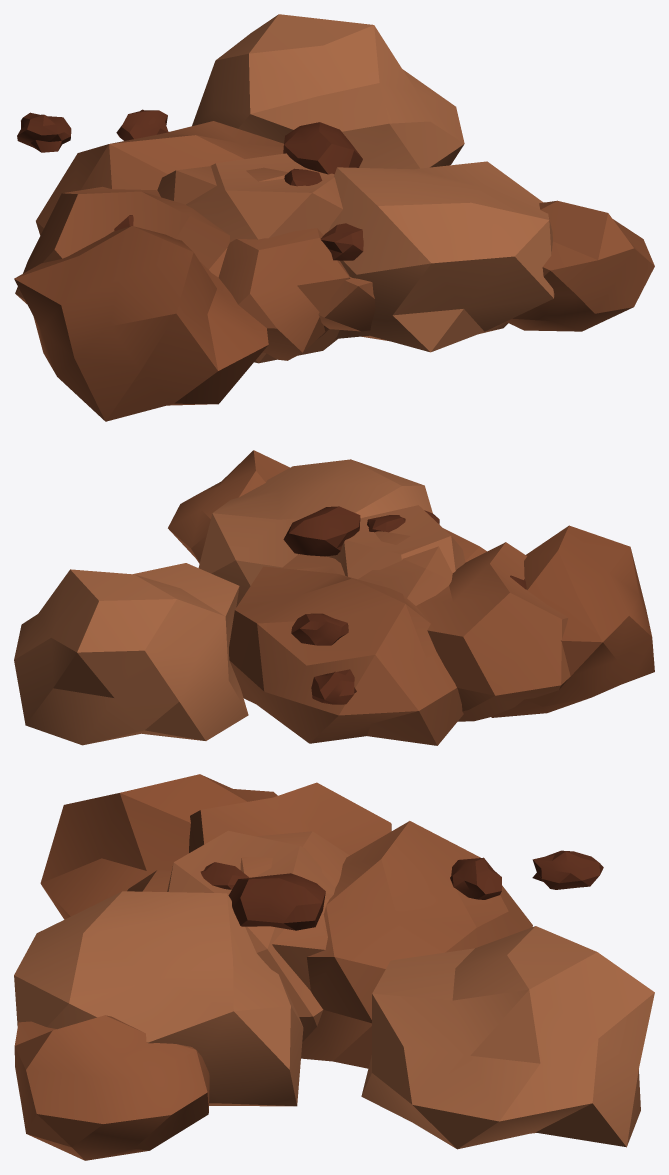
The model's file is dep_iron_3.glb.
The picture shows the model from 3 angles, top to bottom: view 1: azimuth 30°, elevation 25°; view 2: azimuth 150°, elevation 25°; view 3: azimuth 270°, elevation 25°; orthographic projection. The views are drawn at different scales.
Visible parts, largest first — view 1: rock_iron; view 2: rock_iron; view 3: rock_iron.
Boxes of the visible parts, bbox=[...] form: rock_iron: bbox=[14, 14, 654, 421]; rock_iron: bbox=[14, 450, 654, 745]; rock_iron: bbox=[14, 774, 654, 1160].
Size of the model in its own units: 9.46 by 2.67 by 8.78.
